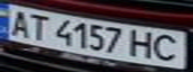1: (69, 20, 90, 50)
4: (51, 16, 75, 47)
5: (84, 21, 106, 52)
7: (103, 25, 127, 55)
A: (3, 7, 33, 38)
C: (151, 32, 187, 63)
H: (127, 28, 160, 60)
T: (24, 11, 54, 42)
